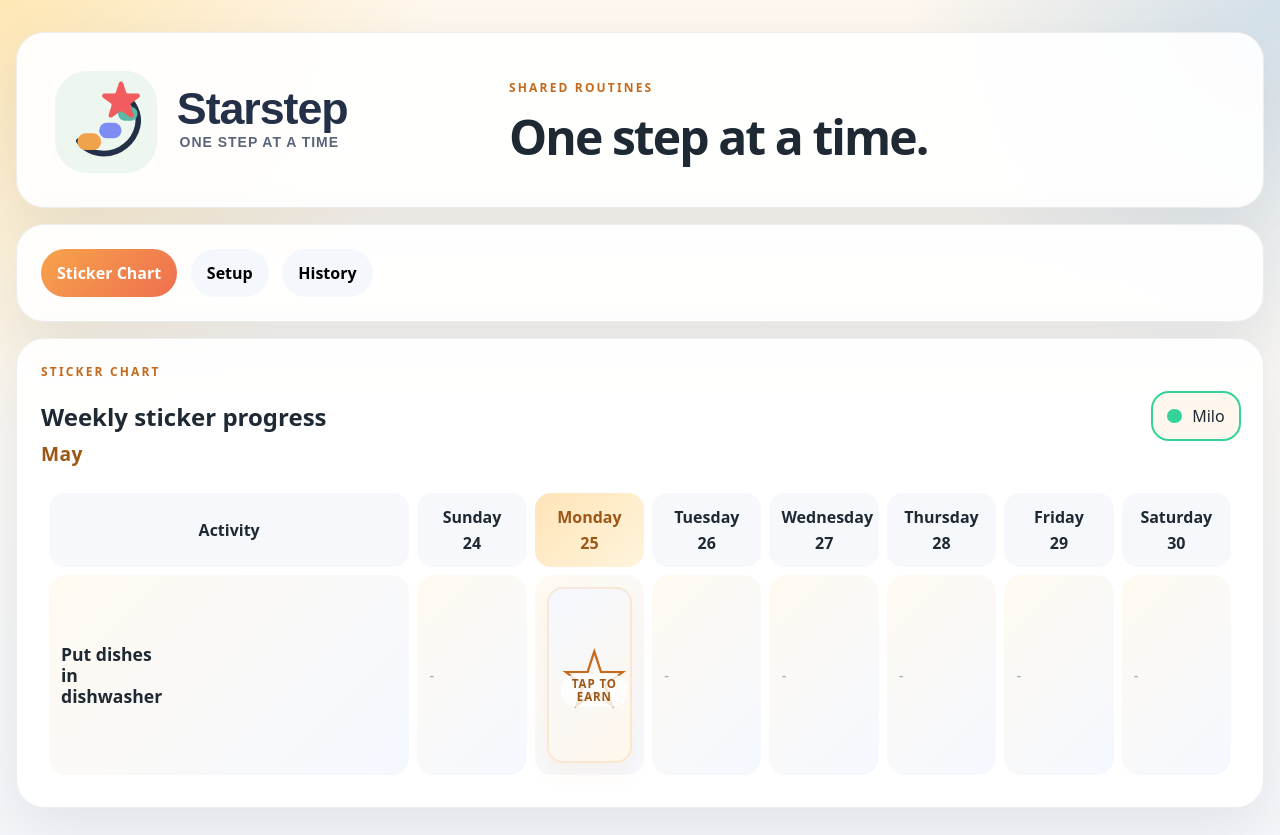
Scenario: App › renders history structure before sticker images finish loading
Click the button "History".
click(327, 273)  # box [282, 249, 373, 297]
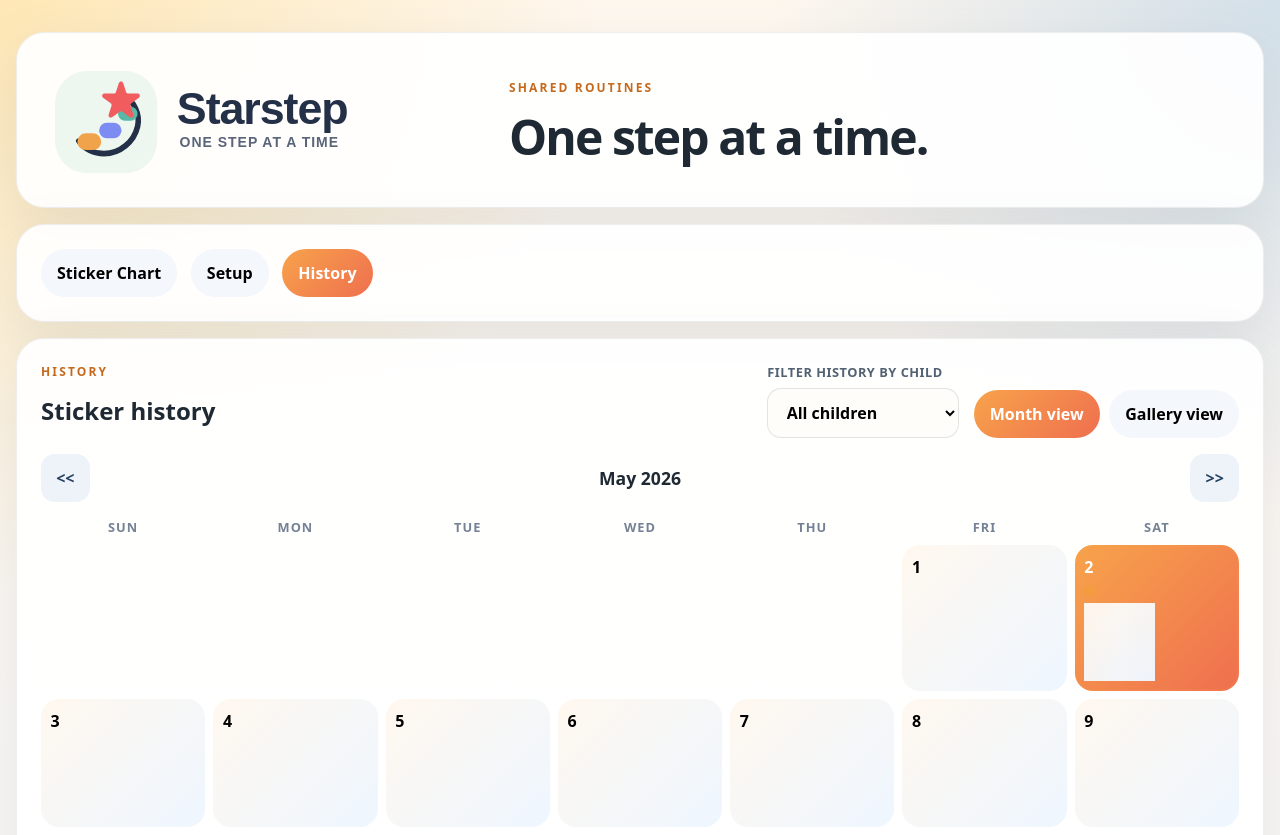
Result: the element named "loading sticker earned on may 2, 2026 for put dishes in dishwasher" is shown at [1084, 603, 1155, 681]
Click the button "Gallery view".
click(1174, 414)  # box [1109, 390, 1239, 438]
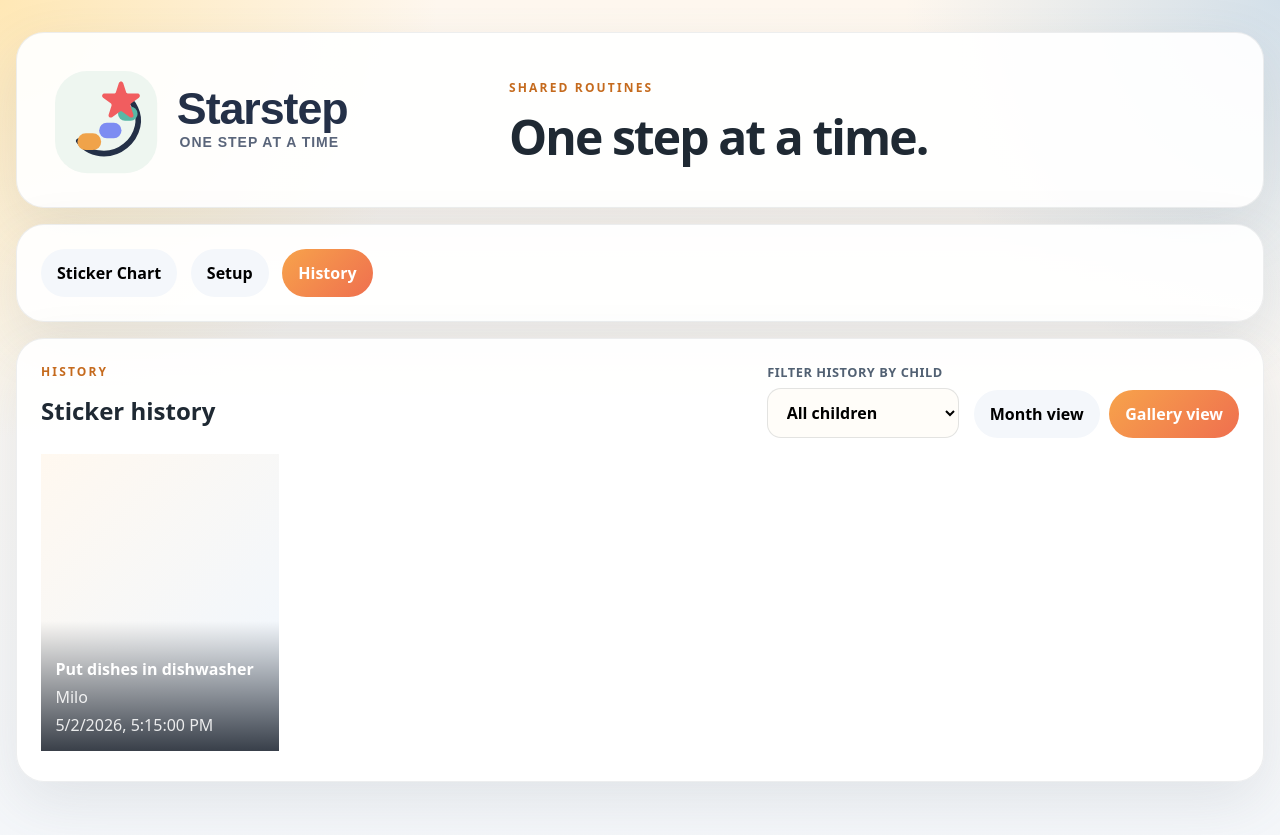
Result: the element named "loading saved sticker for put dishes in dishwasher" is shown at [41, 454, 279, 751]
